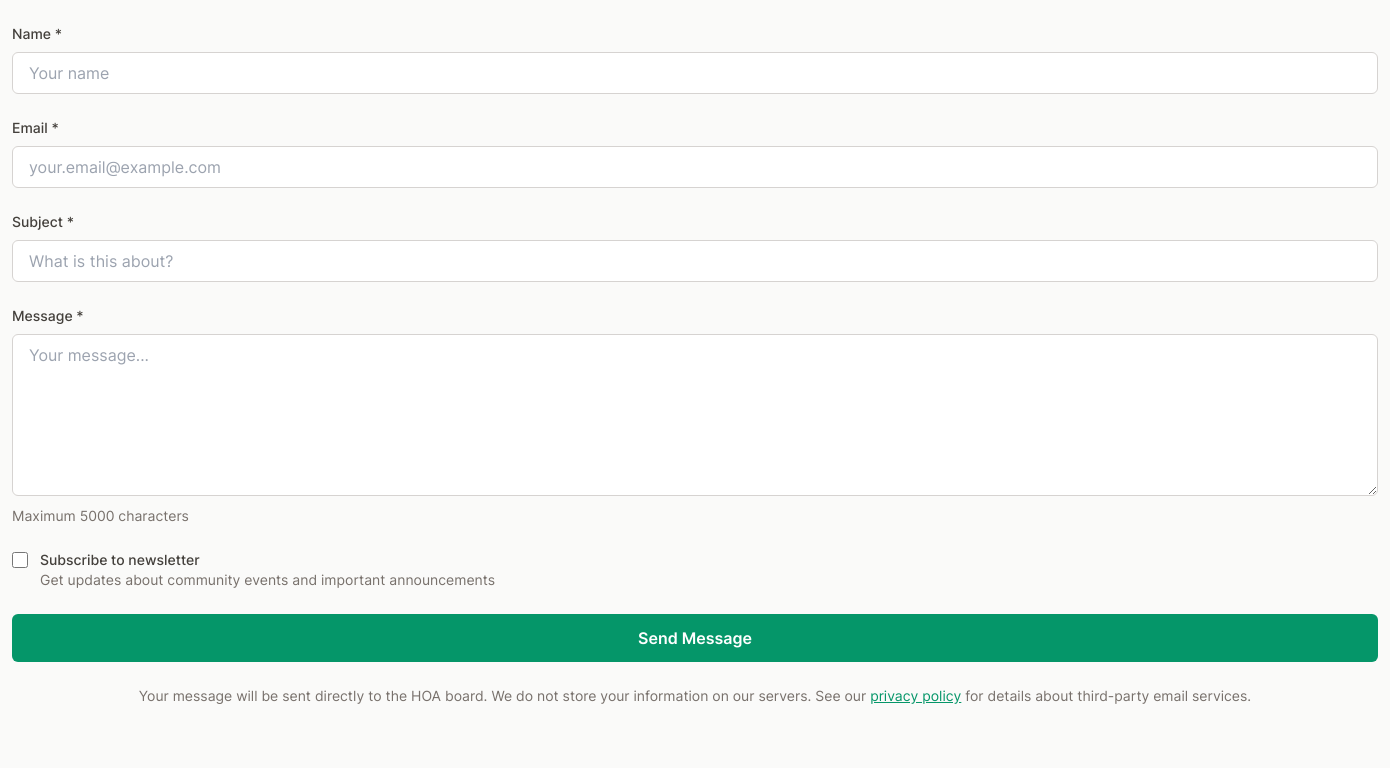
Test case: ContactForm › should show success message when form is submitted successfully
Note: Fill out the form
Step 1. Type "John Doe" into the field with test id "name-input" → (695, 73), box [12,52,1378,94]
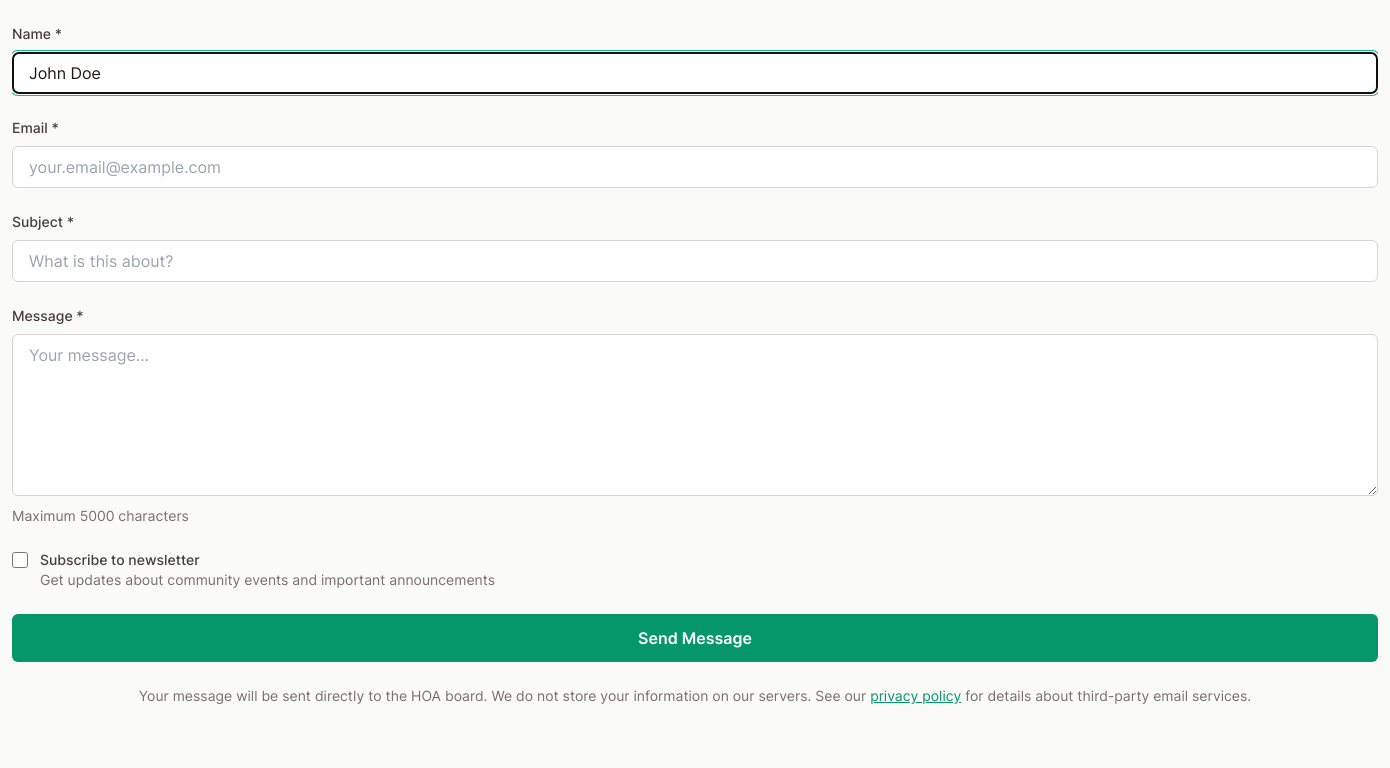
Step 2. Type "john@example.com" into the field with test id "email-input" → (695, 167), box [12,146,1378,188]
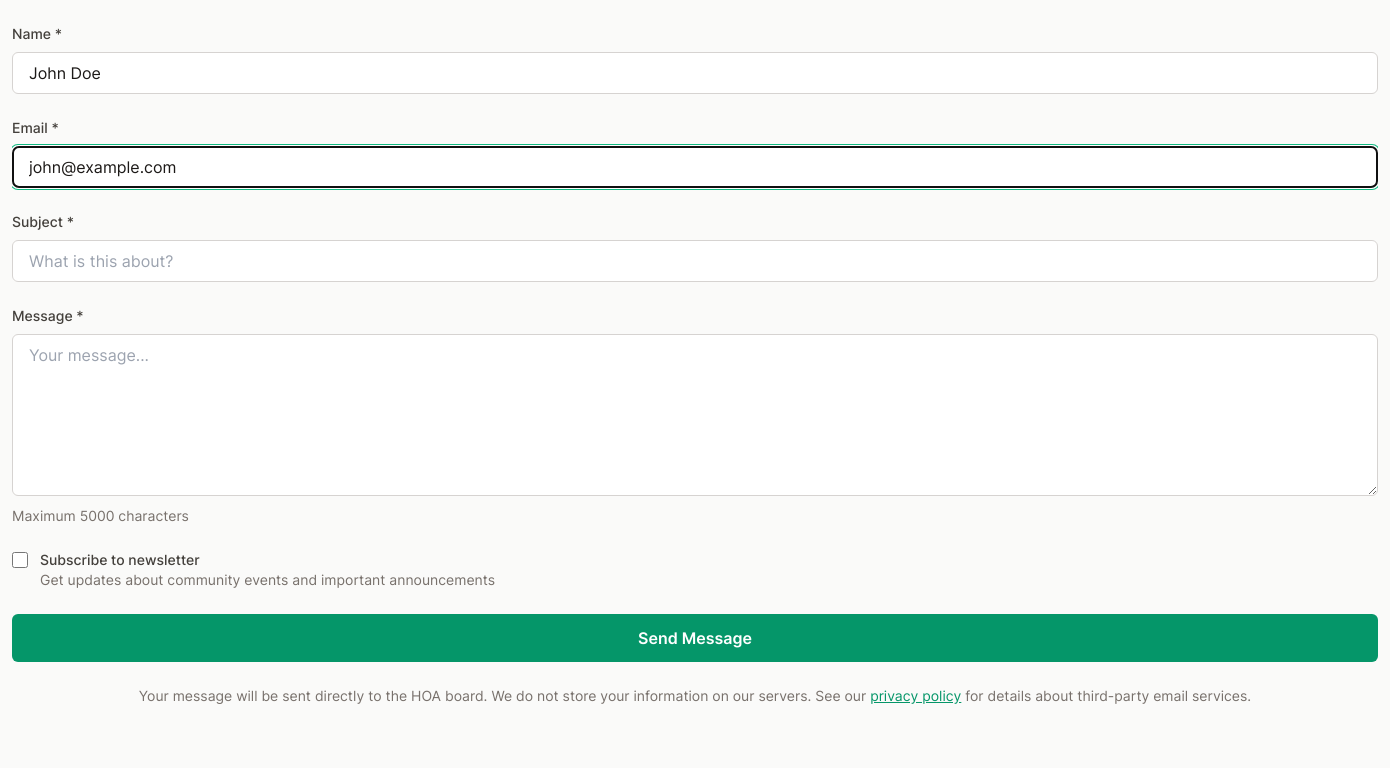
Step 3. Type "Test Subject" into the field with test id "subject-input" → (695, 261), box [12,240,1378,282]
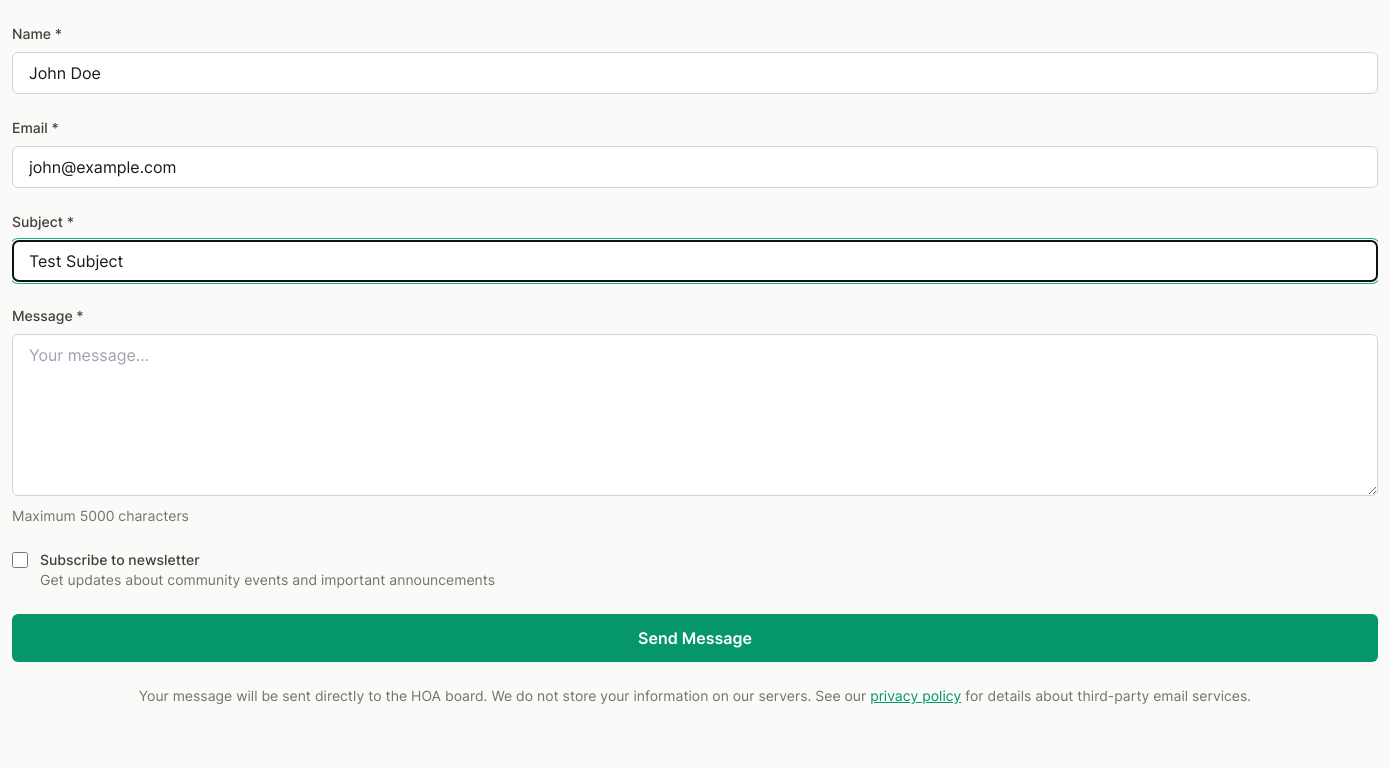
Step 4. Type "Test message" into the text box with test id "message-input" → (695, 415), box [12,334,1378,496]
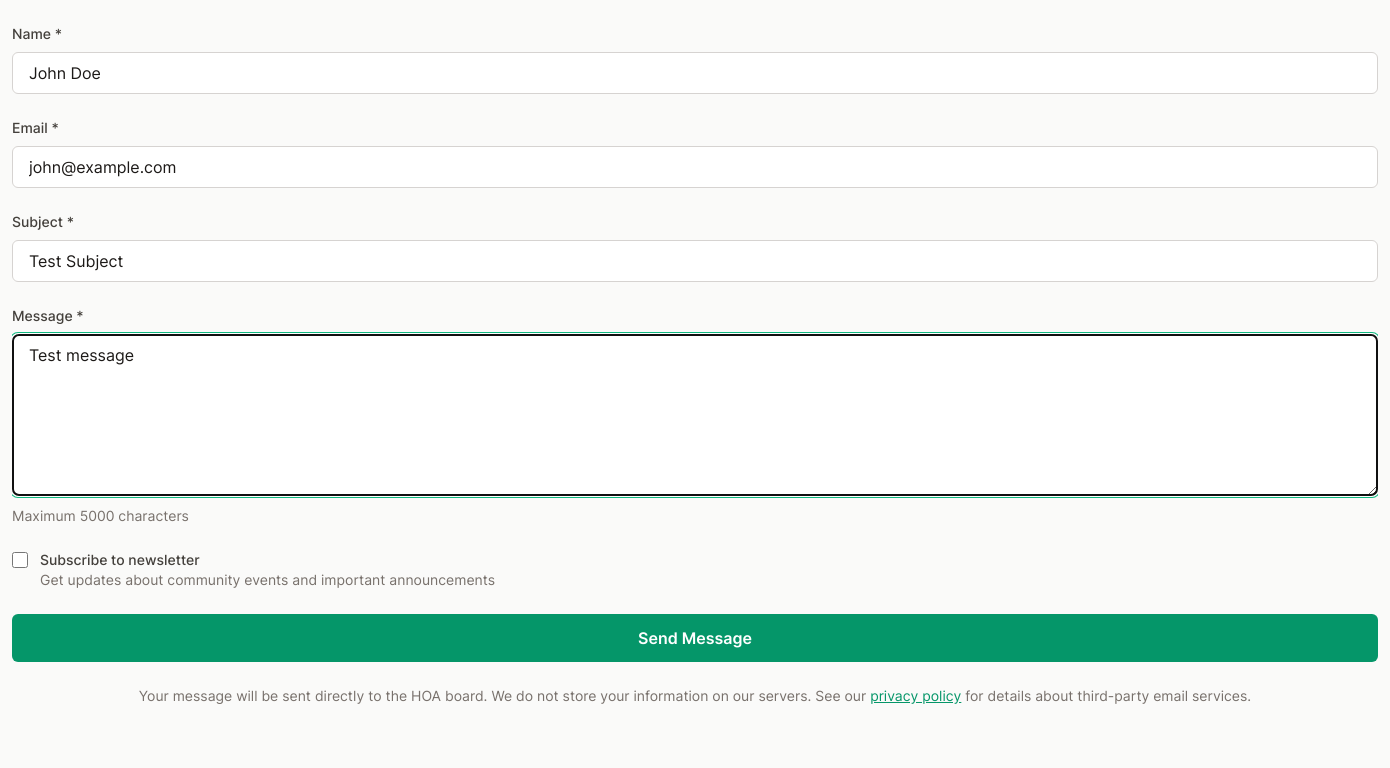
Note: Submit the form
Step 5. Click the button with test id "submit-button" → (695, 638), box [12,614,1378,662]
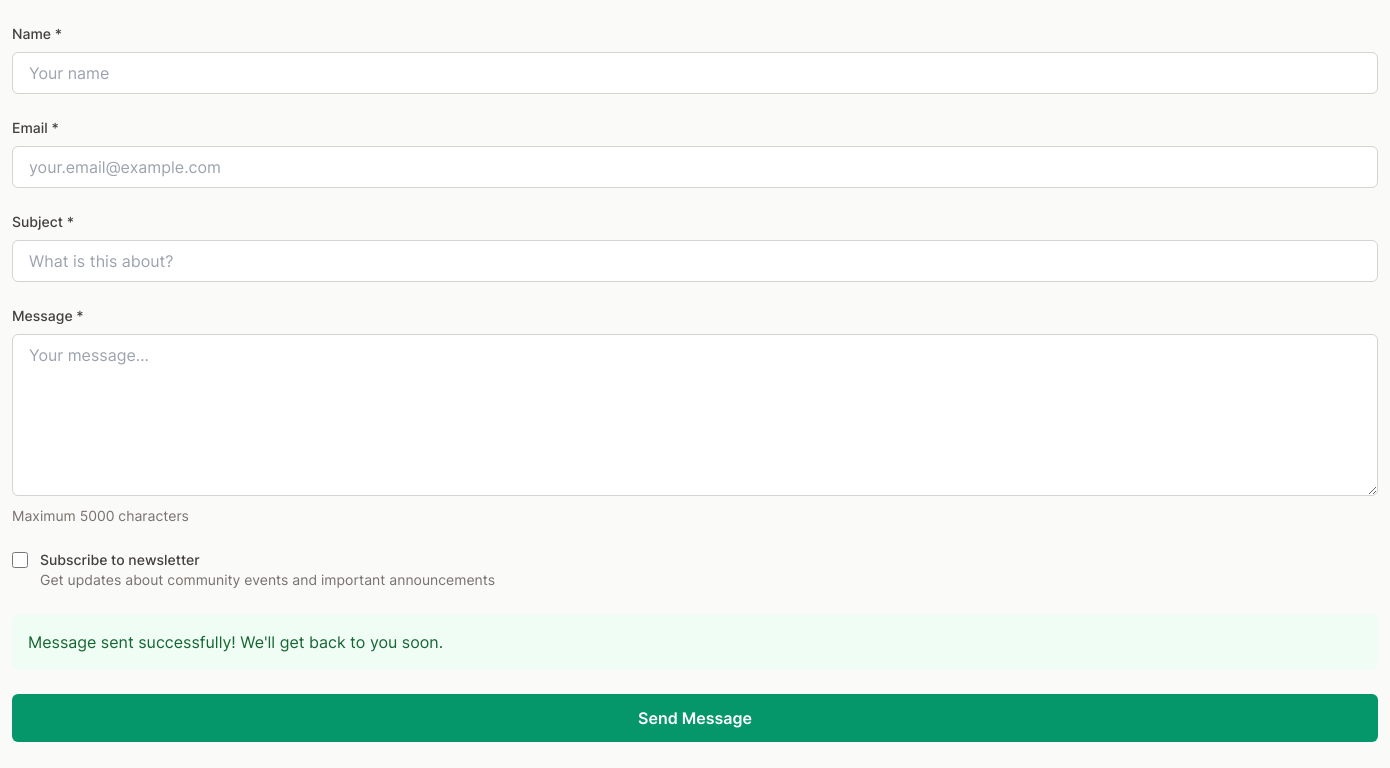
Check: the text "Message sent successfully! We'll get back to you soon." is shown, box [12,614,1378,670]
Check: the text with test id "success-message" shows "Message sent successfully", box [28,632,443,652]
